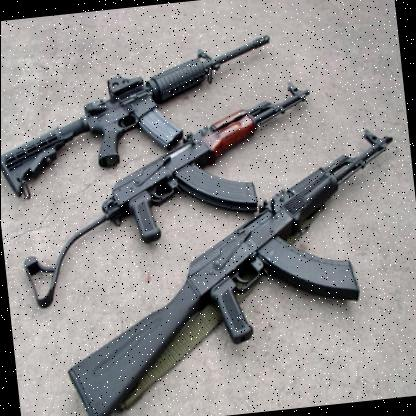rifle: (41, 126, 416, 416), (0, 10, 285, 207), (88, 76, 318, 265)
